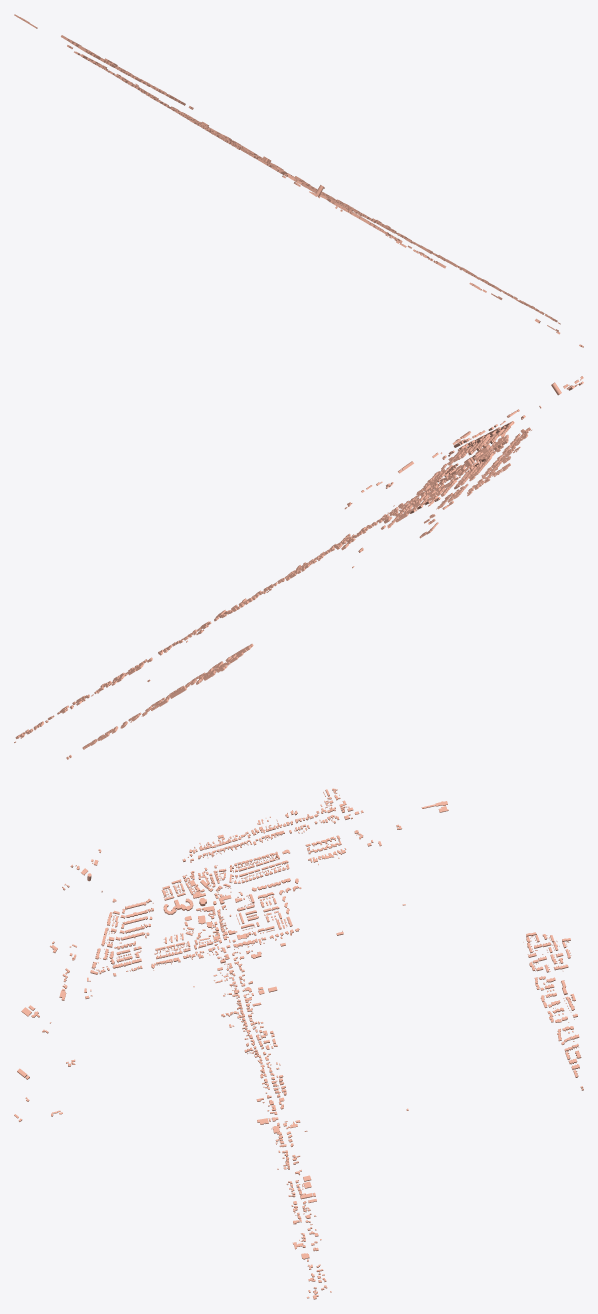
3 views of the same model, one above another, from view 1: azimuth 30°, elevation 25°; view 2: azimuth 150°, elevation 25°; view 3: azimuth 270°, elevation 25° (orthographic). The views are drawn at different scales.
Size of the model in its own units: 1924 by 1470 by 2387.
